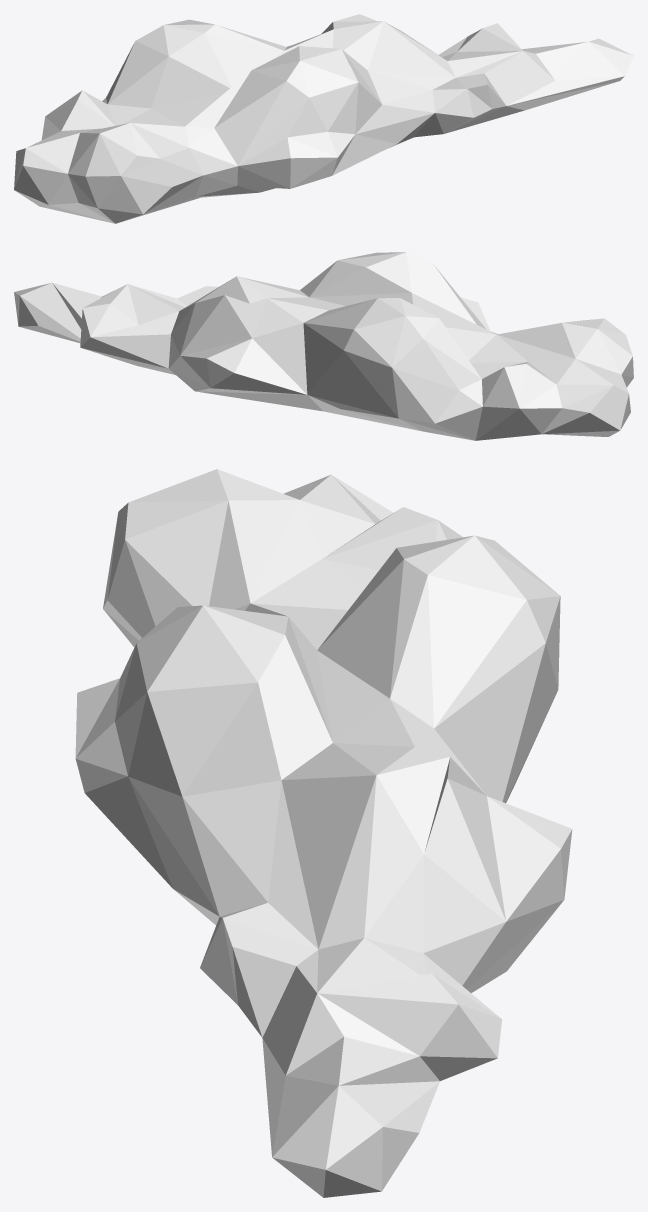
File: Big_Cloud_02.glb
The picture shows the model from 3 angles, top to bottom: view 1: azimuth 30°, elevation 25°; view 2: azimuth 150°, elevation 25°; view 3: azimuth 270°, elevation 25°; orthographic projection. The views are drawn at different scales.
Parts seen in each view (by area): view 1: SM_Gen_Env_Cloud_02; view 2: SM_Gen_Env_Cloud_02; view 3: SM_Gen_Env_Cloud_02.
Boxes of the visible parts, left/top/right/bottom form: SM_Gen_Env_Cloud_02: left=14, top=14, right=633, bottom=223; SM_Gen_Env_Cloud_02: left=14, top=252, right=633, bottom=440; SM_Gen_Env_Cloud_02: left=75, top=469, right=572, bottom=1197.
Size of the model in its own units: 45.81 by 9.95 by 16.15.
1 material, 1 textured.
